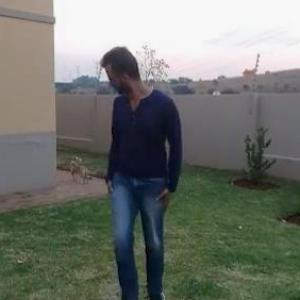follow: (96, 42, 181, 296)
